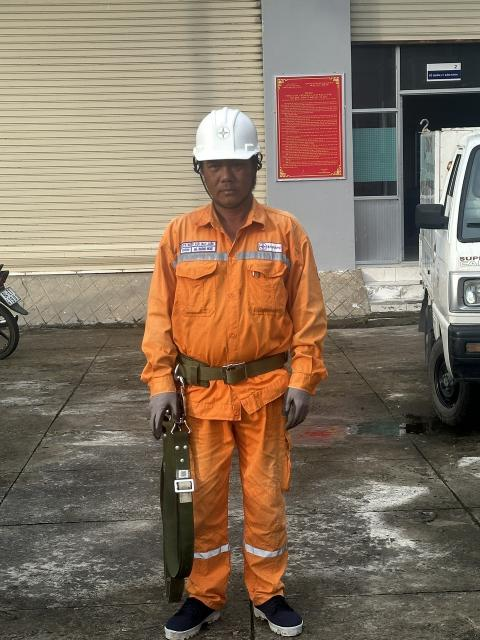gloves: (137, 381, 181, 433), (275, 386, 320, 430)
harness: (166, 342, 307, 389)
helmet: (180, 98, 267, 171)
shoes: (146, 576, 228, 640), (244, 588, 312, 639)
